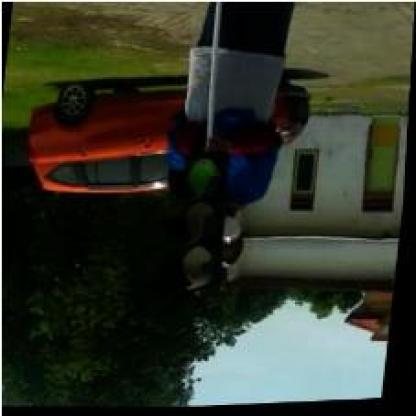green: (160, 149, 236, 294)
